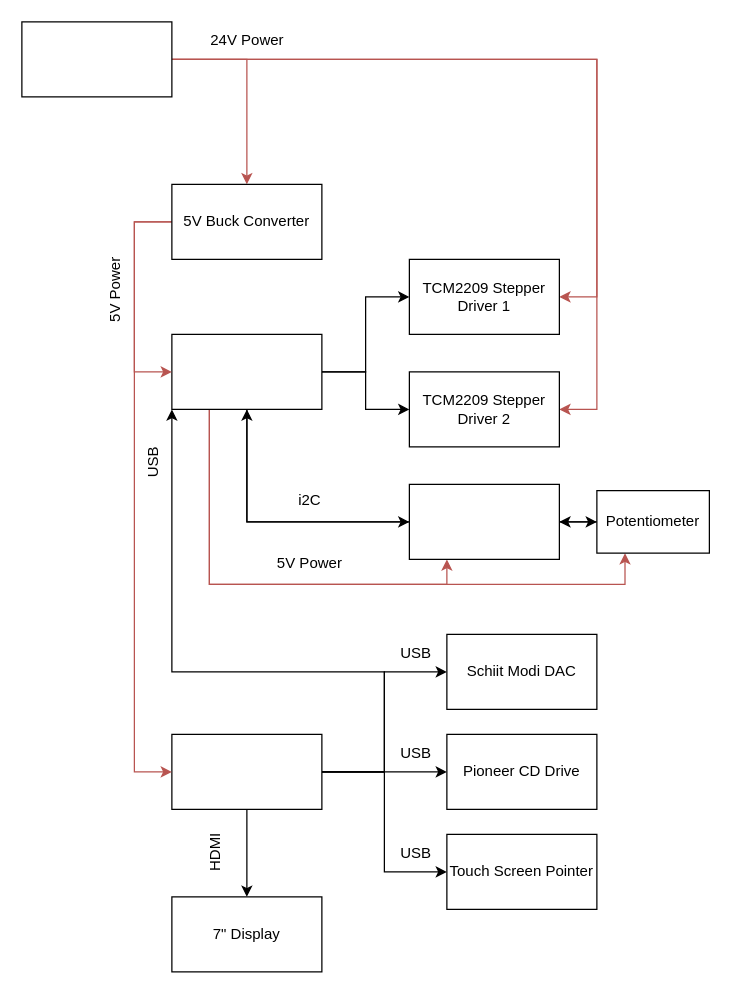
The diagram is 731 pixels wide and 994 high, and some of its shapes have lost their labels. Here are the shapes that lost their labels. From the top down, the centre of each, then its label:
At pixel 96 59: "24V Power Supply".
At pixel 246 371: "Raspberry Pi Pico".
At pixel 483 521: "ADS1115 16 bit ADC".
At pixel 246 771: "Raspberry Pi 4".
